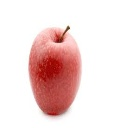apple: (28, 24, 83, 117)
